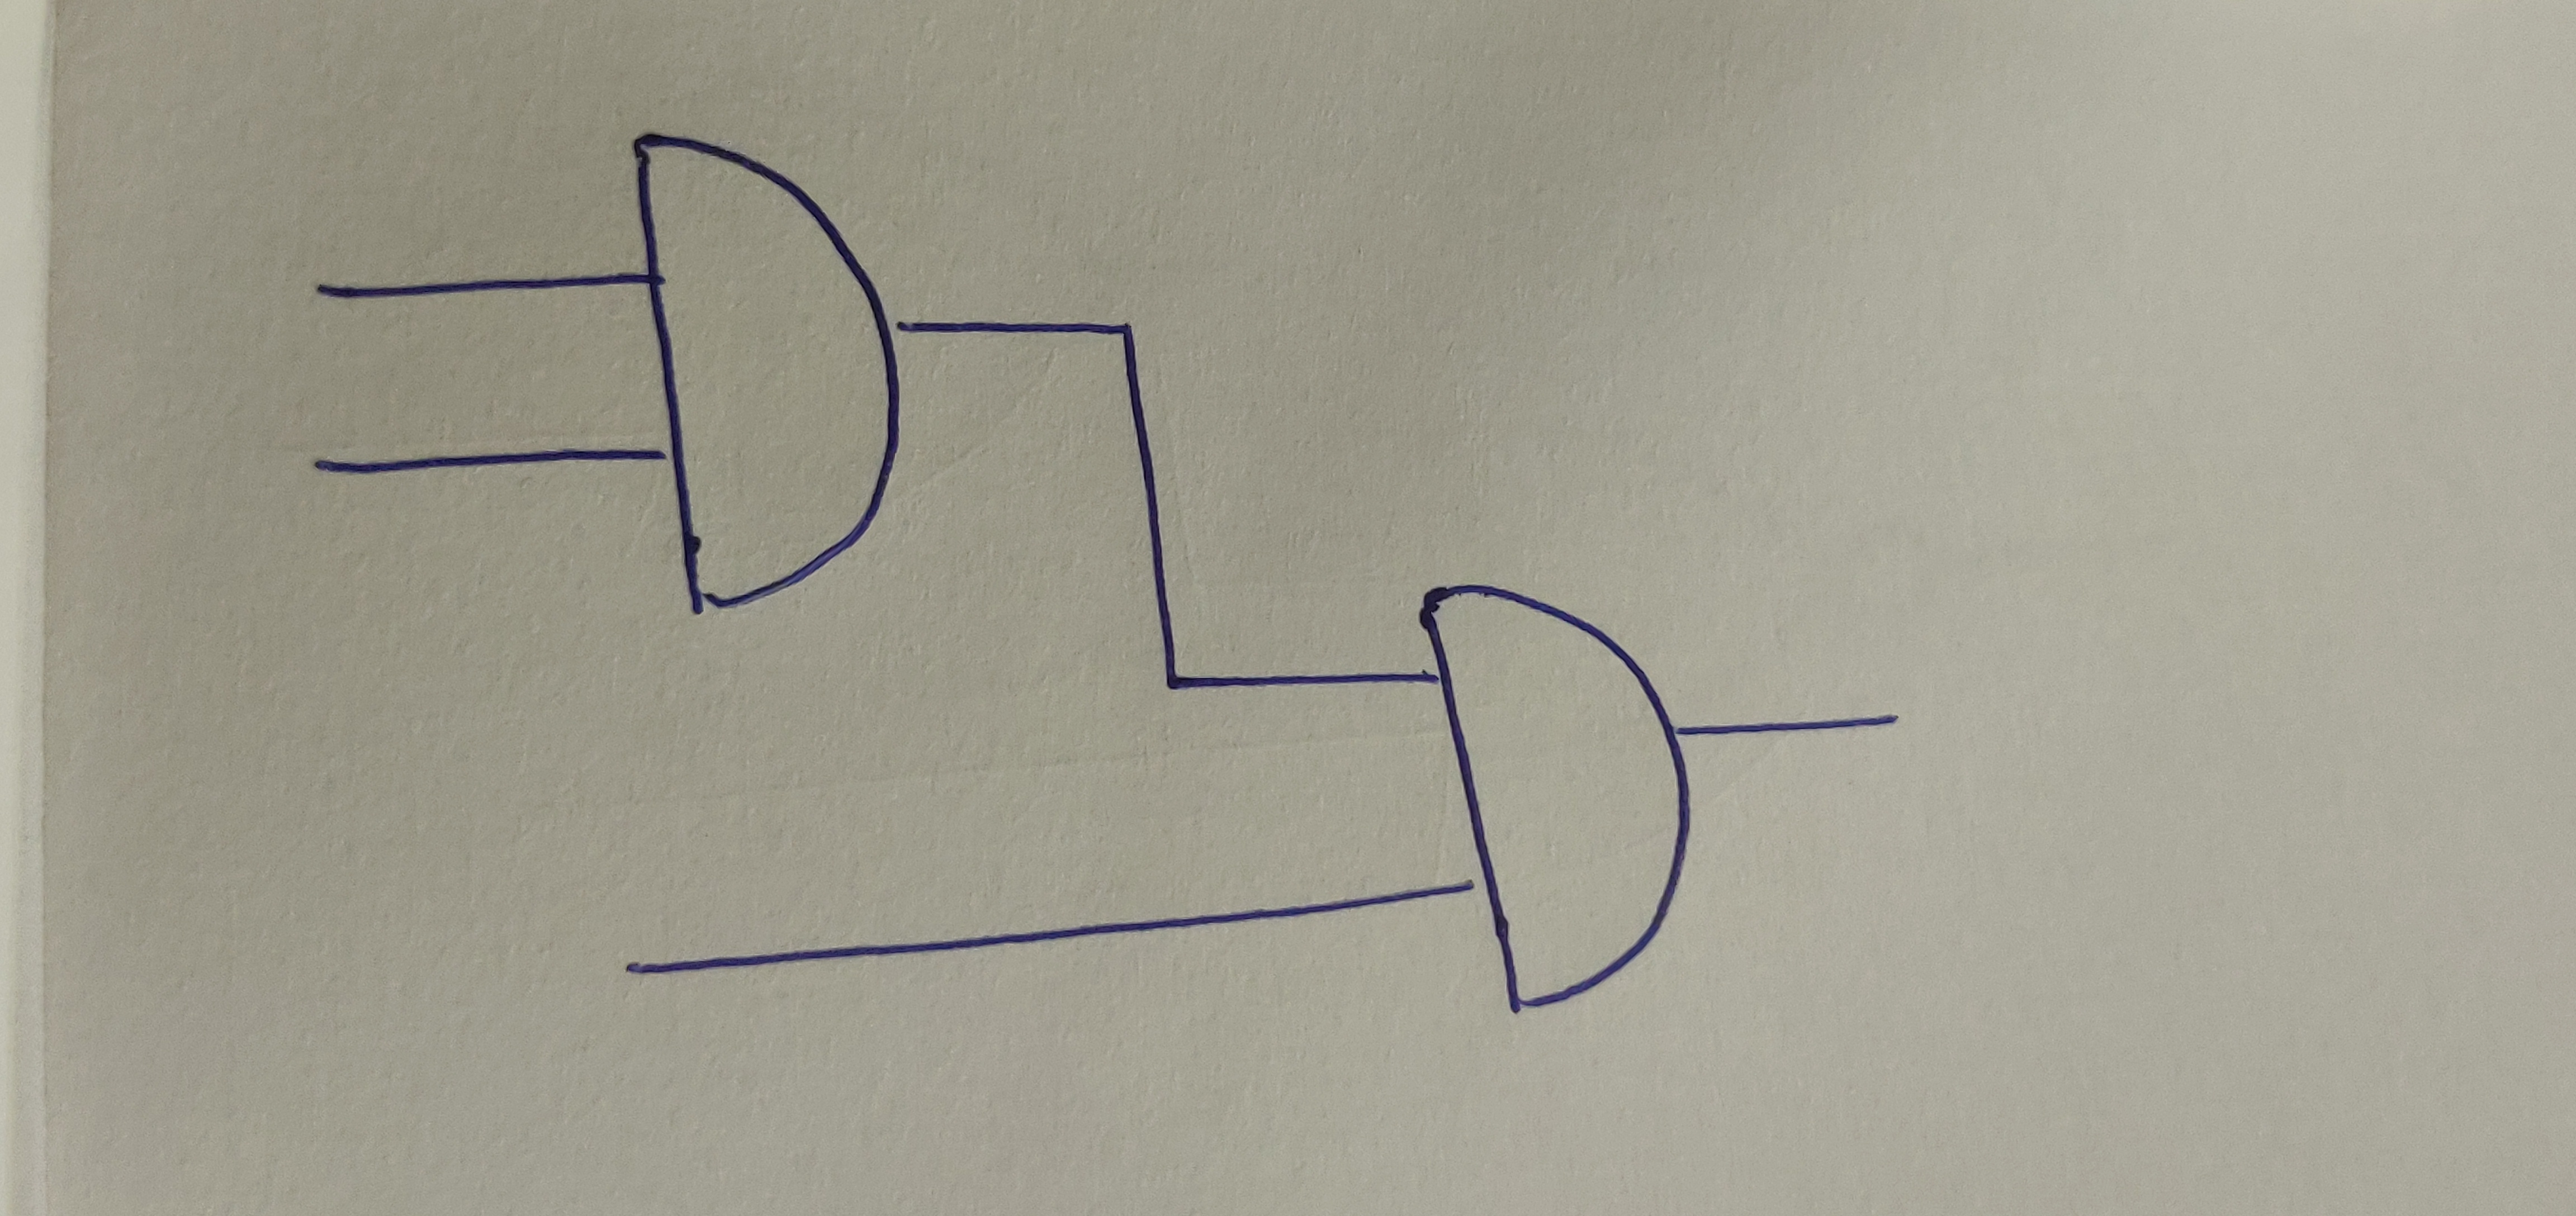and: (631, 125, 907, 616), (1411, 585, 1697, 1016)
